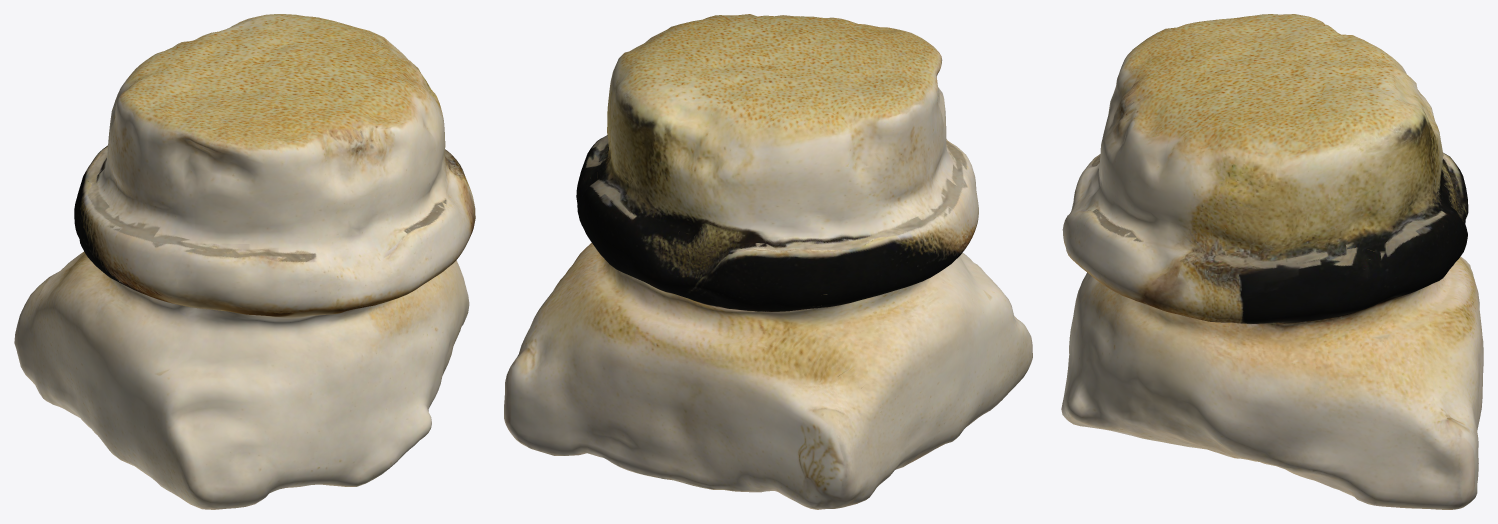
File: fig_325.glb
The picture shows the model from 3 angles, left to right: view 1: azimuth 30°, elevation 25°; view 2: azimuth 150°, elevation 25°; view 3: azimuth 270°, elevation 25°; orthographic projection. The views are drawn at different scales.
Bounding box in the file's own units: 1.96 × 1.88 × 2.
Materials: 1 (1 with a texture image).
